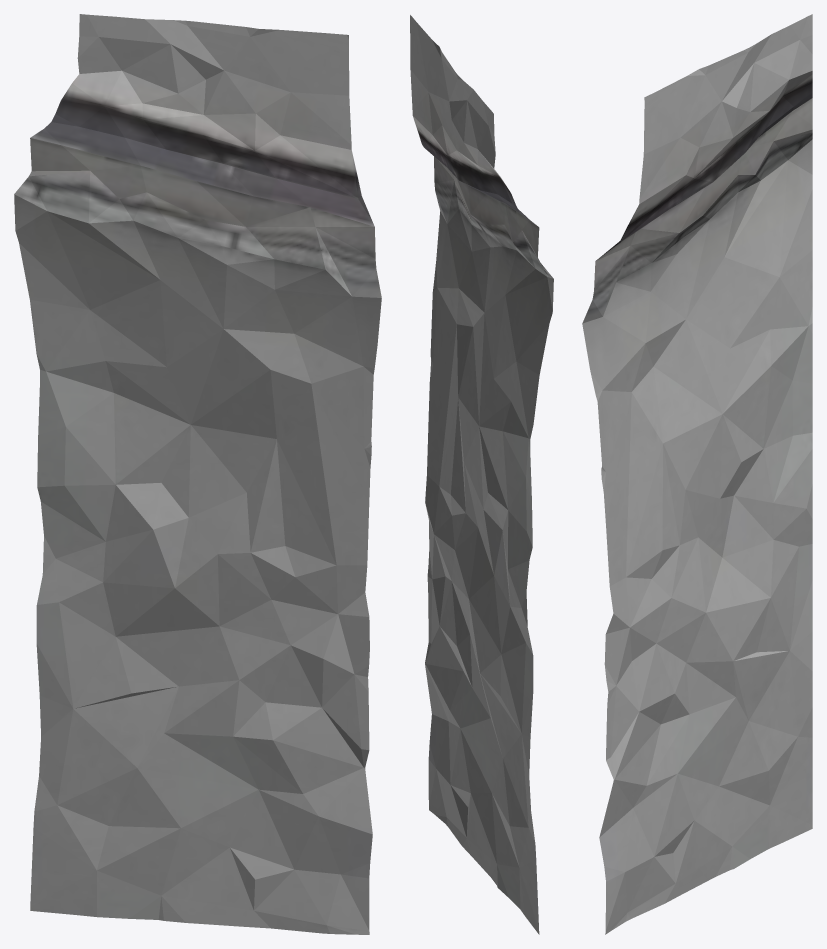
3 renders of one model, left to right at view 1: azimuth 30°, elevation 25°; view 2: azimuth 150°, elevation 25°; view 3: azimuth 270°, elevation 25°, orthographic. The views are drawn at different scales.
Size of the model in its own units: 0.4872 by 1.67 by 0.4176.
Materials: 1 (1 with a texture image).
